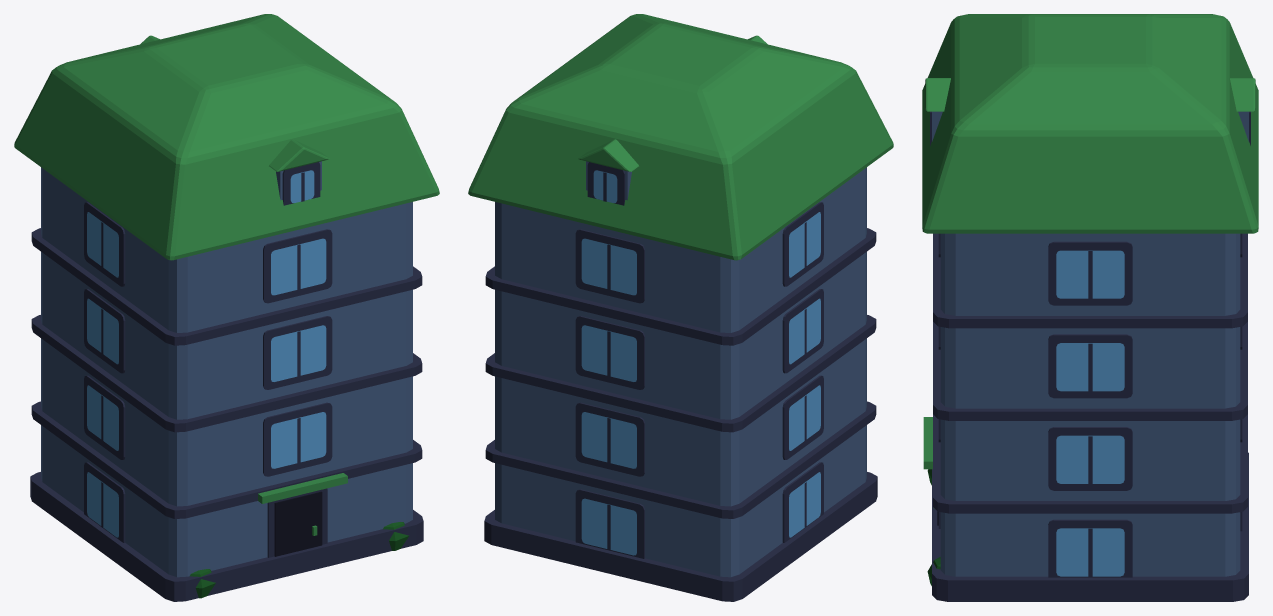
Rendered from house-1x1-4f-mansard-b.glb.
3 views of the same model, side by side, from view 1: azimuth 30°, elevation 25°; view 2: azimuth 150°, elevation 25°; view 3: azimuth 270°, elevation 25° (orthographic). The views are drawn at different scales.
Visible parts, largest first — view 1: house-1x1-4f-mansard-b; view 2: house-1x1-4f-mansard-b; view 3: house-1x1-4f-mansard-b.
Boxes of the visible parts, x1,y1,x2,y2 form: house-1x1-4f-mansard-b: (14, 14, 439, 601); house-1x1-4f-mansard-b: (468, 14, 893, 601); house-1x1-4f-mansard-b: (922, 14, 1258, 601).
Bounding box in the file's own units: 0.9876 × 1.6 × 0.9876.
Materials: 1 (1 with a texture image).
